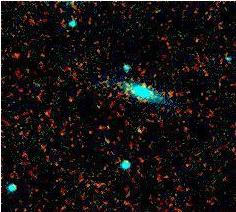star: (126, 43, 156, 73)
